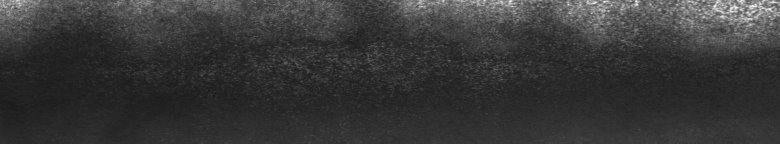kb: (284, 4, 776, 80)
